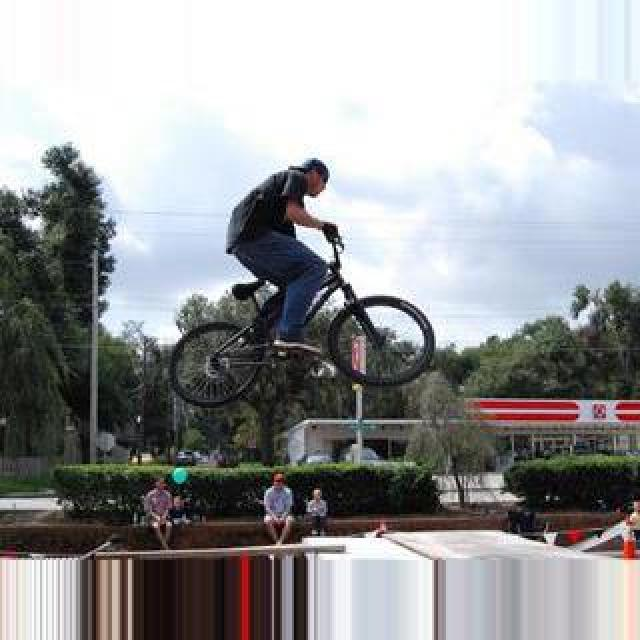MC-Bike: (224, 160, 344, 346), (262, 472, 298, 544), (144, 478, 174, 550)
Person: (164, 232, 438, 410)
